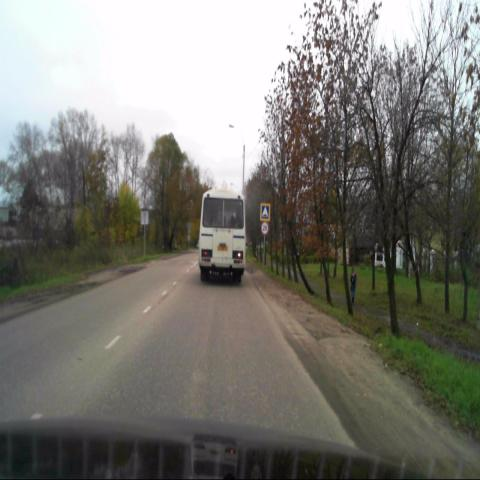3_24: (261, 222, 269, 236)
5_20: (260, 202, 270, 221)
